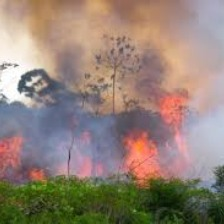incendio: (1, 97, 220, 189)
